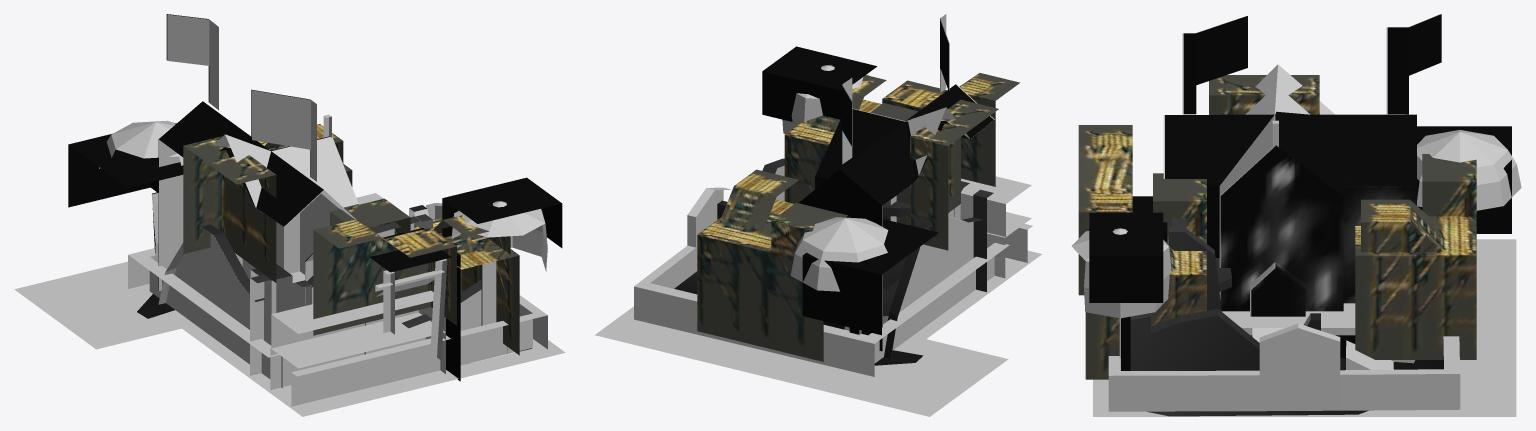
File: T_Royalsociety_01.fbx
3 renders of one model, left to right at view 1: azimuth 30°, elevation 25°; view 2: azimuth 150°, elevation 25°; view 3: azimuth 270°, elevation 25°, orthographic. The views are drawn at different scales.
Visible parts, largest first — view 1: T_Royalsociety_01, FX_Territory_NightGlow, T_BuildForm_03, T_BuildForm_02 (2), T_Royalsociety_01_Lock, T_BuildForm_01, FX_BuildUnLock_Glow, T_BuildForm_01 (1); view 2: T_Royalsociety_01, FX_Territory_NightGlow, T_BuildForm_01 (1), T_BuildForm_02 (2), FX_BuildUnLock_Glow, T_BuildForm_01, T_BuildForm_03, T_Royalsociety_01_Lock; view 3: FX_Territory_NightGlow, T_Royalsociety_01, T_BuildForm_01 (1), FX_BuildUnLock_Glow, T_BuildForm_01, T_BuildForm_03, T_BuildForm_02 (2).
Boxes of the visible parts, <box> form: T_Royalsociety_01: <box>14,14,565,416</box>; FX_Territory_NightGlow: <box>68,14,562,381</box>; T_BuildForm_03: <box>313,219,456,335</box>; T_BuildForm_02 (2): <box>183,136,276,282</box>; T_Royalsociety_01_Lock: <box>158,208,481,375</box>; T_BuildForm_01: <box>330,198,519,355</box>; FX_BuildUnLock_Glow: <box>137,205,531,362</box>; T_BuildForm_01 (1): <box>174,123,352,186</box>; T_Royalsociety_01: <box>595,14,1041,416</box>; FX_Territory_NightGlow: <box>762,18,993,351</box>; T_BuildForm_01 (1): <box>697,169,847,361</box>; T_BuildForm_02 (2): <box>910,99,998,250</box>; FX_BuildUnLock_Glow: <box>674,158,993,365</box>; T_BuildForm_01: <box>784,75,918,224</box>; T_BuildForm_03: <box>882,73,1019,186</box>; T_Royalsociety_01_Lock: <box>775,165,973,341</box>; FX_Territory_NightGlow: <box>1089,14,1511,370</box>; T_Royalsociety_01: <box>1071,14,1521,416</box>; T_BuildForm_01 (1): <box>1355,154,1476,359</box>; FX_BuildUnLock_Glow: <box>1130,218,1443,416</box>; T_BuildForm_01: <box>1085,173,1206,379</box>; T_BuildForm_03: <box>1078,125,1132,295</box>; T_BuildForm_02 (2): <box>1209,75,1319,114</box>.
Bounding box in the file's own units: 8.76 × 6.8 × 9.39.
